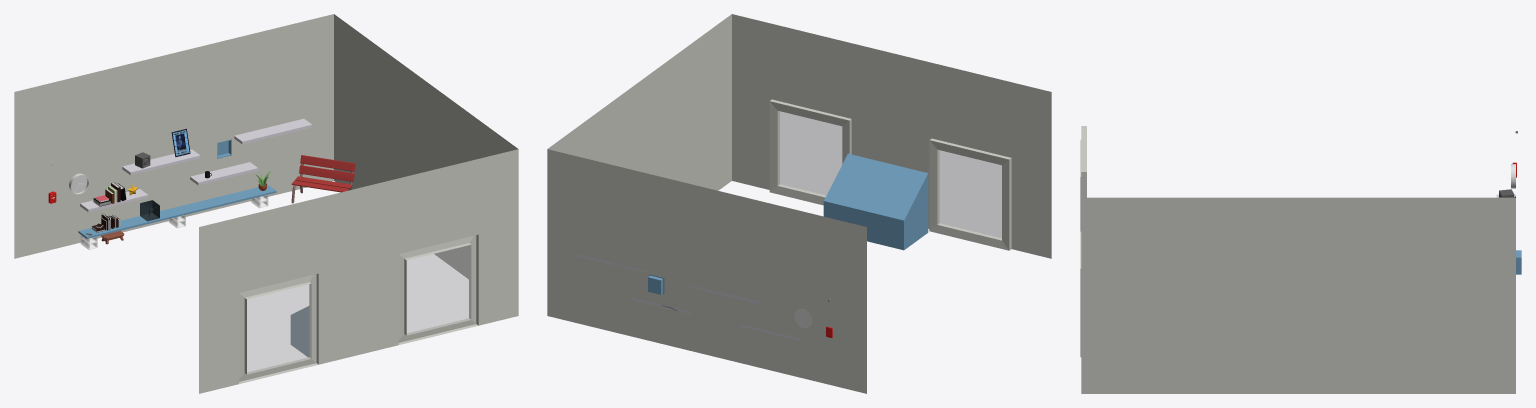
Rendered from room_3_COM.gltf.
3 renders of one model, left to right at view 1: azimuth 30°, elevation 25°; view 2: azimuth 150°, elevation 25°; view 3: azimuth 270°, elevation 25°, orthographic. The views are drawn at different scales.
Parts seen in each view (by area): view 1: Cube; view 2: Cube; view 3: Cube.
Part boxes in pixels (x1,y1,x2,y2): Cube: (14,14,518,393); Cube: (547,14,1051,393); Cube: (1080,126,1521,393).
Bounding box in the file's own units: 8.58 × 4.29 × 8.71.
79 materials, 2 textured.
